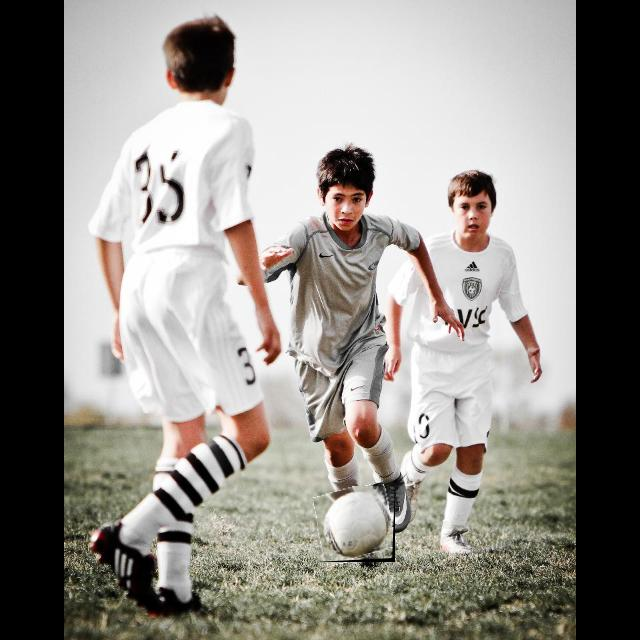Football: (317, 486, 395, 562)
